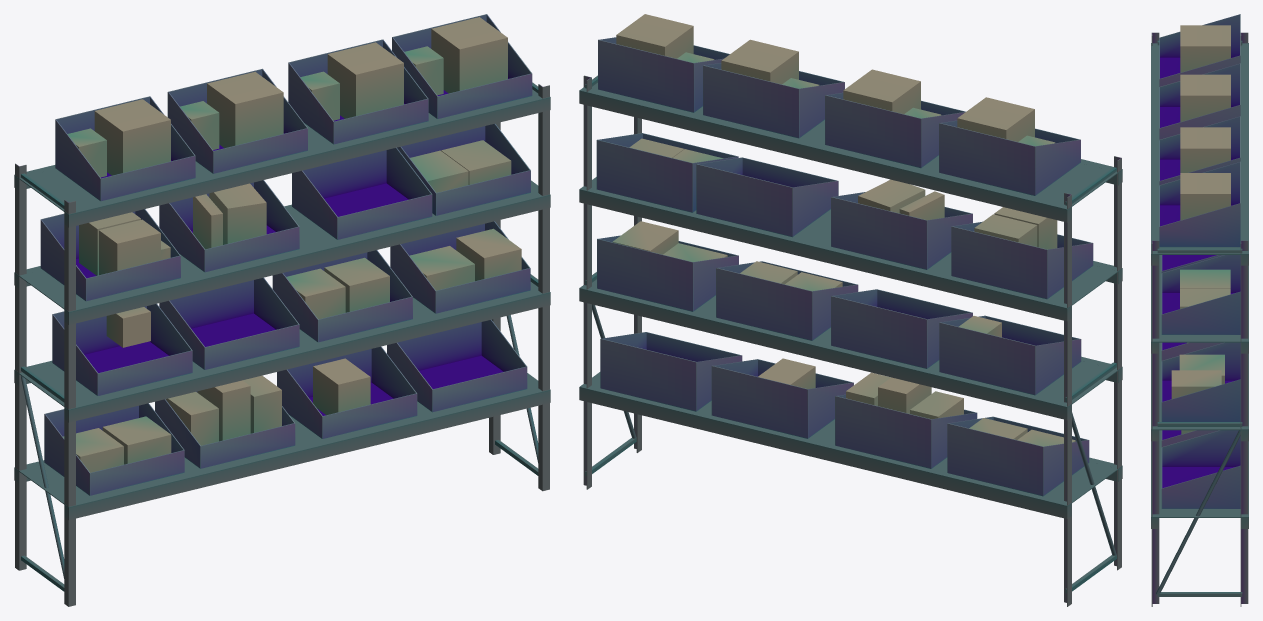
The model's file is simready-rack_composition_l04.glb.
3 views of the same model, side by side, from view 1: azimuth 30°, elevation 25°; view 2: azimuth 150°, elevation 25°; view 3: azimuth 270°, elevation 25° (orthographic). The views are drawn at different scales.
Parts seen in each view (by area): view 1: bin_floor.010, bin_floor.003, shelf_rail.001, shelf_rail.003, shelf_rail.007, shelf_rail.005, bin_floor.005, bin_floor.004, bin_floor.002, bin_floor.012, bin_floor.009, bin_floor (+41 smaller); view 2: shelf_rail.008, shelf_rail.006, shelf_rail.004, shelf_rail.002, bin_floor.010, bin_floor.003, bin_floor.004, bin_floor.005, bin_floor.002, bin_floor.012, bin_floor, bin_floor.008 (+30 smaller); view 3: bin_floor.003, bin_floor.011, bin_floor.015, bin_floor.007, angle_post.004, angle_post.002, bin_floor.013, bin_floor.012, carton.021, carton.019, carton.023, carton.025 (+24 smaller).
Part boxes in pixels (box(x1,y1,x2,y2)): bin_floor.010: box(292, 147, 432, 239); bin_floor.003: box(387, 319, 527, 412); shelf_rail.001: box(64, 388, 550, 519); shelf_rail.003: box(64, 291, 550, 422); shelf_rail.007: box(64, 95, 550, 227); shelf_rail.005: box(64, 193, 550, 324); bin_floor.005: box(159, 277, 299, 369); bin_floor.004: box(52, 303, 192, 395); bin_floor.002: box(277, 346, 417, 438); bin_floor.012: box(55, 96, 195, 201); bin_floor.009: box(159, 180, 299, 272); bin_floor: box(44, 403, 184, 495); shelf_rail.008: box(579, 87, 1071, 222); shelf_rail.006: box(579, 186, 1071, 321); shelf_rail.004: box(579, 285, 1071, 420); shelf_rail.002: box(579, 384, 1071, 518); bin_floor.010: box(696, 157, 838, 237); bin_floor.003: box(600, 332, 742, 411); bin_floor.004: box(939, 315, 1081, 395); bin_floor.005: box(831, 289, 972, 368); bin_floor.002: box(711, 359, 853, 438); bin_floor.012: box(939, 120, 1080, 195); bin_floor: box(947, 416, 1089, 496); bin_floor.008: box(951, 221, 1093, 299); bin_floor.003: box(1161, 430, 1240, 508); bin_floor.011: box(1161, 255, 1240, 334); bin_floor.015: box(1159, 161, 1240, 247); bin_floor.007: box(1161, 342, 1240, 421); angle_post.004: box(1240, 240, 1248, 606); angle_post.002: box(1151, 240, 1159, 606); bin_floor.013: box(1159, 63, 1240, 139); bin_floor.012: box(1159, 14, 1240, 86); carton.021: box(1180, 74, 1230, 121); carton.019: box(1180, 25, 1230, 72); carton.023: box(1180, 127, 1230, 172); carton.025: box(1180, 173, 1230, 220).
Bounding box in the file's own units: 3.1 × 2.74 × 0.606.
